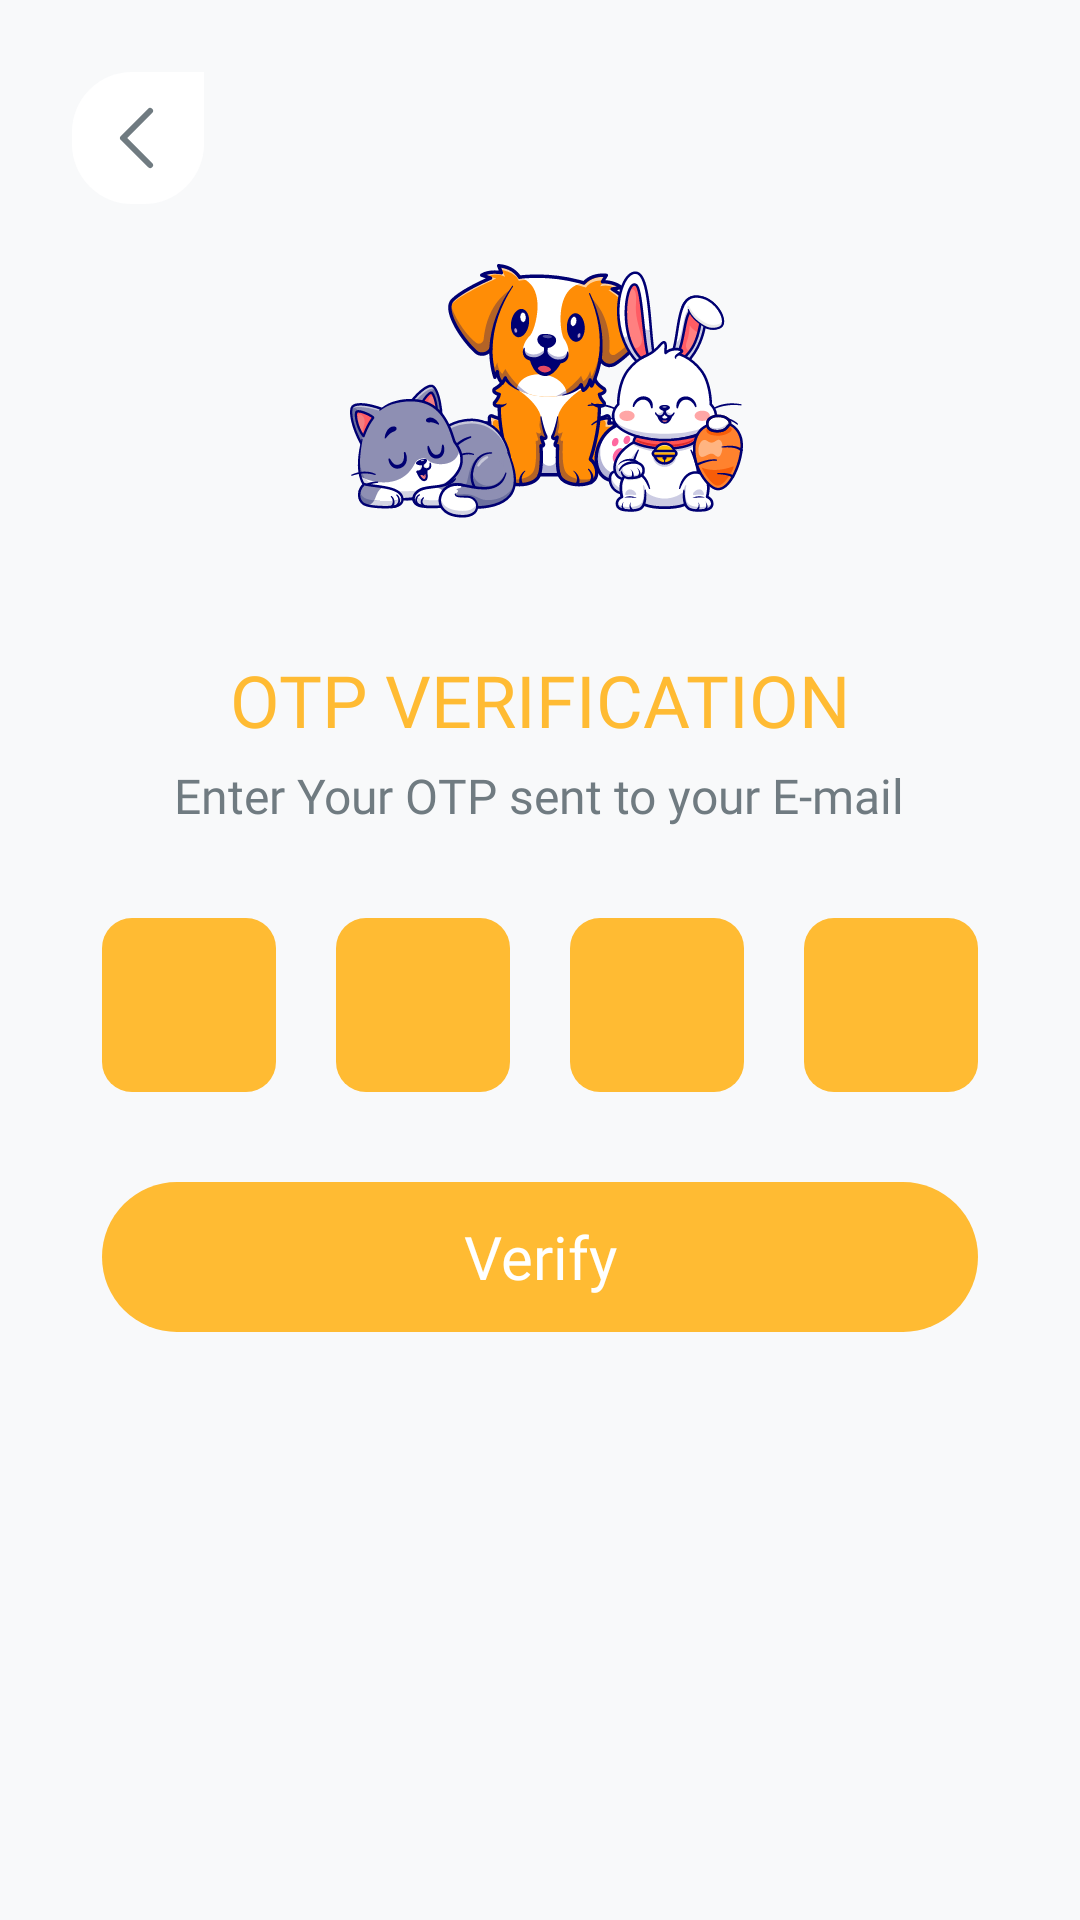

Named icons in this screenshot (1080x1920) and their bounding boxes, (x1, y1, x2, y2):
chevron left: (120, 108, 153, 168)
